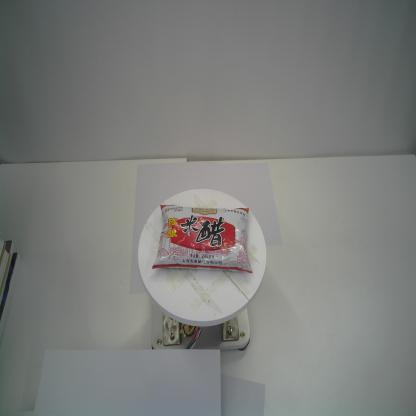Seasoner: (150, 200, 255, 275)
